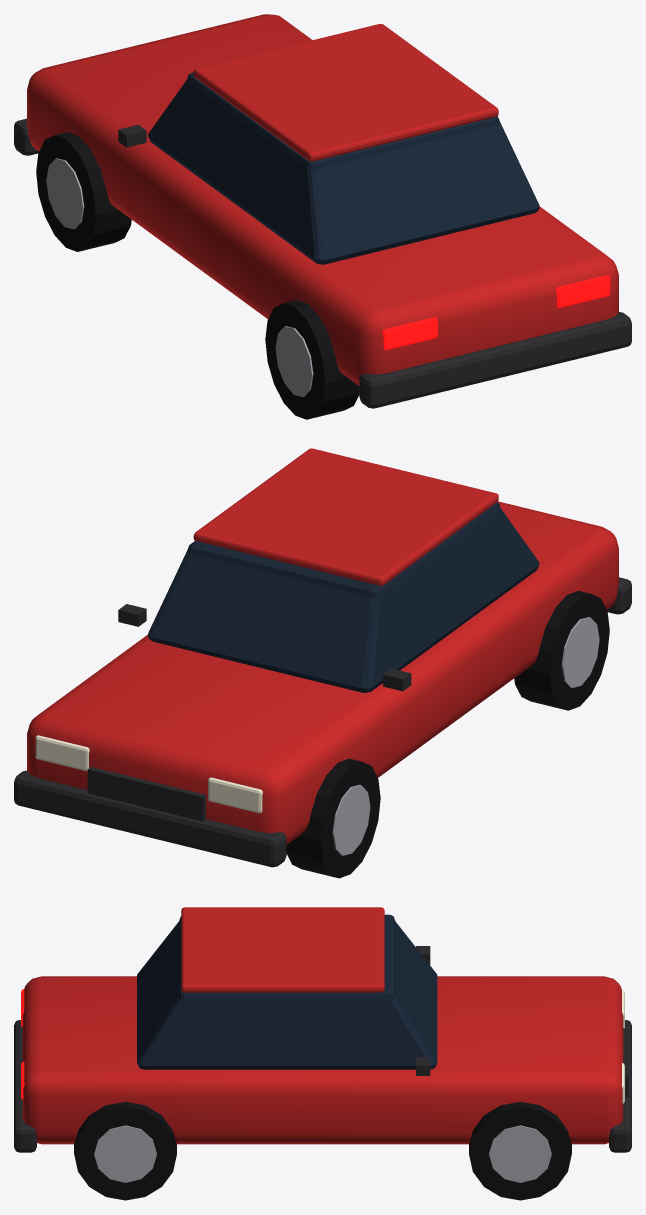
Rendered from Car.fbx.
3 views of the same model, one above another, from view 1: azimuth 30°, elevation 25°; view 2: azimuth 150°, elevation 25°; view 3: azimuth 270°, elevation 25° (orthographic). The views are drawn at different scales.
Visible parts, largest first — view 1: Car; view 2: Car; view 3: Car.
Part boxes in pixels (x1=…): Car: x1=14, y1=14, x2=631, y2=419; Car: x1=14, y1=448, x2=631, y2=878; Car: x1=14, y1=907, x2=631, y2=1200.
Size of the model in its own units: 2 by 1.5 by 4.32.
